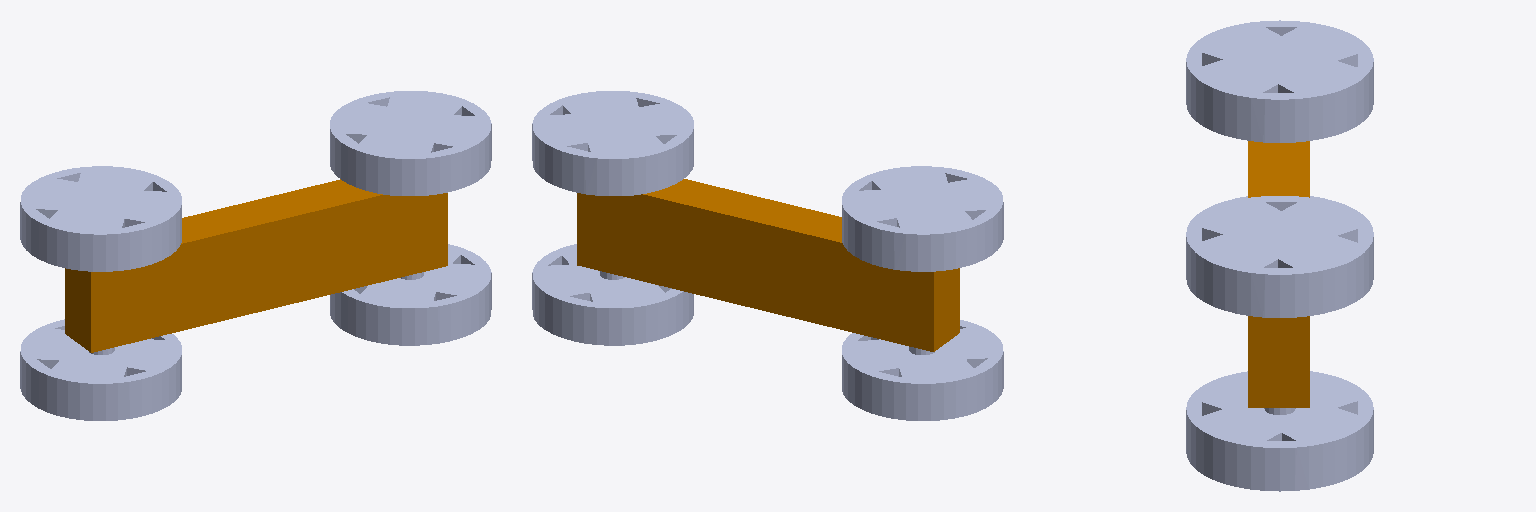
robot.urdf — Assem1:
<?xml version="1.0" encoding="utf-8"?>
<!-- This URDF was automatically created by SolidWorks to URDF Exporter! Originally created by [author] ([email redacted]) 
     Commit Version: 1.6.0-4-g7f85cfe  Build Version: 1.6.7995.38578
     For more information, please see http://wiki.ros.org/sw_urdf_exporter -->
<robot
  name="Assem1">
  <link
    name="base_link">
    <inertial>
      <origin
        xyz="-0.0040712 0.019218 -0.001832"
        rpy="0 0 0" />
      <mass
        value="0.79656" />
      <inertia
        ixx="0.0004247"
        ixy="-1.7557E-19"
        ixz="-1.3553E-19"
        iyy="0.006196"
        iyz="2.4885E-20"
        izz="0.0059702" />
    </inertial>
    <visual>
      <origin
        xyz="0 0 0"
        rpy="0 0 0" />
      <geometry>
        <mesh
          filename="package://Assem1/meshes/base_link.STL" />
      </geometry>
      <material
        name="">
        <color
          rgba="0.8 0.5 0 1" />
      </material>
    </visual>
    <collision>
      <origin
        xyz="0 0 0"
        rpy="0 0 0" />
      <geometry>
        <mesh
          filename="package://Assem1/meshes/base_link.STL" />
      </geometry>
    </collision>
  </link>
  <link
    name="link_left_forward">
    <inertial>
      <origin
        xyz="5.5511E-16 -5.8287E-16 0.015495"
        rpy="0 0 0" />
      <mass
        value="0.31743" />
      <inertia
        ixx="0.00029799"
        ixy="4.9476E-20"
        ixz="8.5125E-19"
        iyy="0.00029799"
        iyz="-7.8798E-19"
        izz="0.00053889" />
    </inertial>
    <visual>
      <origin
        xyz="0 0 0"
        rpy="0 0 0" />
      <geometry>
        <mesh
          filename="package://Assem1/meshes/link_left_forward.STL" />
      </geometry>
      <material
        name="">
        <color
          rgba="0.79216 0.81961 0.93333 1" />
      </material>
    </visual>
    <collision>
      <origin
        xyz="0 0 0"
        rpy="0 0 0" />
      <geometry>
        <mesh
          filename="package://Assem1/meshes/link_left_forward.STL" />
      </geometry>
    </collision>
  </link>
  <joint
    name="joint_left_forward"
    type="continuous">
    <origin
      xyz="0.12593 0.019896 -0.076832"
      rpy="0 0 0" />
    <parent
      link="base_link" />
    <child
      link="link_left_forward" />
    <axis
      xyz="0 0 1" />
  </joint>
  <link
    name="link_right_forward">
    <inertial>
      <origin
        xyz="-4.4409E-16 5.5511E-16 -0.015495"
        rpy="0 0 0" />
      <mass
        value="0.31743" />
      <inertia
        ixx="0.00029799"
        ixy="-4.5653E-20"
        ixz="1.5519E-20"
        iyy="0.00029799"
        iyz="-7.6746E-23"
        izz="0.00053889" />
    </inertial>
    <visual>
      <origin
        xyz="0 0 0"
        rpy="0 0 0" />
      <geometry>
        <mesh
          filename="package://Assem1/meshes/link_right_forward.STL" />
      </geometry>
      <material
        name="">
        <color
          rgba="0.79216 0.81961 0.93333 1" />
      </material>
    </visual>
    <collision>
      <origin
        xyz="0 0 0"
        rpy="0 0 0" />
      <geometry>
        <mesh
          filename="package://Assem1/meshes/link_right_forward.STL" />
      </geometry>
    </collision>
  </link>
  <joint
    name="joint_right_forward"
    type="continuous">
    <origin
      xyz="0.12593 0.019896 0.073168"
      rpy="0 0 0" />
    <parent
      link="base_link" />
    <child
      link="link_right_forward" />
    <axis
      xyz="0 0 1" />
  </joint>
  <link
    name="link_left_back">
    <inertial>
      <origin
        xyz="6.8955E-17 -2.7756E-17 0.015495"
        rpy="0 0 0" />
      <mass
        value="0.31743" />
      <inertia
        ixx="0.00029799"
        ixy="7.9409E-20"
        ixz="8.588E-19"
        iyy="0.00029799"
        iyz="-8.7157E-19"
        izz="0.00053889" />
    </inertial>
    <visual>
      <origin
        xyz="0 0 0"
        rpy="0 0 0" />
      <geometry>
        <mesh
          filename="package://Assem1/meshes/link_left_back.STL" />
      </geometry>
      <material
        name="">
        <color
          rgba="0.79216 0.81961 0.93333 1" />
      </material>
    </visual>
    <collision>
      <origin
        xyz="0 0 0"
        rpy="0 0 0" />
      <geometry>
        <mesh
          filename="package://Assem1/meshes/link_left_back.STL" />
      </geometry>
    </collision>
  </link>
  <joint
    name="joint_left_back"
    type="continuous">
    <origin
      xyz="-0.13407 0.019896 -0.076832"
      rpy="0 0 0" />
    <parent
      link="base_link" />
    <child
      link="link_left_back" />
    <axis
      xyz="0 0 1" />
  </joint>
  <link
    name="link_right_back">
    <inertial>
      <origin
        xyz="-0.003455 -0.00020356 -0.015495"
        rpy="0 0 0" />
      <mass
        value="0.31743" />
      <inertia
        ixx="0.00029799"
        ixy="-5.8657E-20"
        ixz="2.6807E-21"
        iyy="0.00029799"
        iyz="-7.14E-21"
        izz="0.00053889" />
    </inertial>
    <visual>
      <origin
        xyz="0 0 0"
        rpy="0 0 0" />
      <geometry>
        <mesh
          filename="package://Assem1/meshes/link_right_back.STL" />
      </geometry>
      <material
        name="">
        <color
          rgba="0.79216 0.81961 0.93333 1" />
      </material>
    </visual>
    <collision>
      <origin
        xyz="0 0 0"
        rpy="0 0 0" />
      <geometry>
        <mesh
          filename="package://Assem1/meshes/link_right_back.STL" />
      </geometry>
    </collision>
  </link>
  <joint
    name="joint_right_back"
    type="continuous">
    <origin
      xyz="-0.13062 0.020099 0.073168"
      rpy="0 0 0" />
    <parent
      link="base_link" />
    <child
      link="link_right_back" />
    <axis
      xyz="0 0 1" />
  </joint>
</robot>

--- Render facts (derived) ---
3 views of the same robot in one strip: view 1: azimuth 30°, elevation 25°; view 2: azimuth 150°, elevation 25°; view 3: azimuth 270°, elevation 25° (orthographic).
Robot: Assem1 — 5 links, 4 joints (4 continuous); root link base_link; default pose: every joint at zero.
Visible links, largest first — view 1: base_link, link_right_back, link_right_forward, link_left_back, link_left_forward; view 2: base_link, link_right_back, link_right_forward, link_left_back, link_left_forward; view 3: link_right_back, link_right_forward, link_left_forward, base_link.
Link boxes in pixels (x1,y1,x2,y2): base_link: (65, 179, 447, 352); link_right_back: (20, 166, 181, 271); link_right_forward: (330, 91, 491, 195); link_left_back: (20, 319, 181, 420); link_left_forward: (330, 244, 491, 345); base_link: (577, 179, 959, 351); link_right_back: (842, 166, 1003, 271); link_right_forward: (532, 91, 693, 195); link_left_back: (842, 320, 1003, 420); link_left_forward: (532, 244, 693, 345); link_right_back: (1186, 20, 1373, 142); link_right_forward: (1186, 196, 1373, 317); link_left_forward: (1186, 371, 1373, 491); base_link: (1248, 141, 1309, 407).
Size in the robot's own frame: 0.3778 by 0.1178 by 0.15 metres.
Meshes: 5 distinct files referenced, 5 mesh visuals loaded (5 binary STL).
